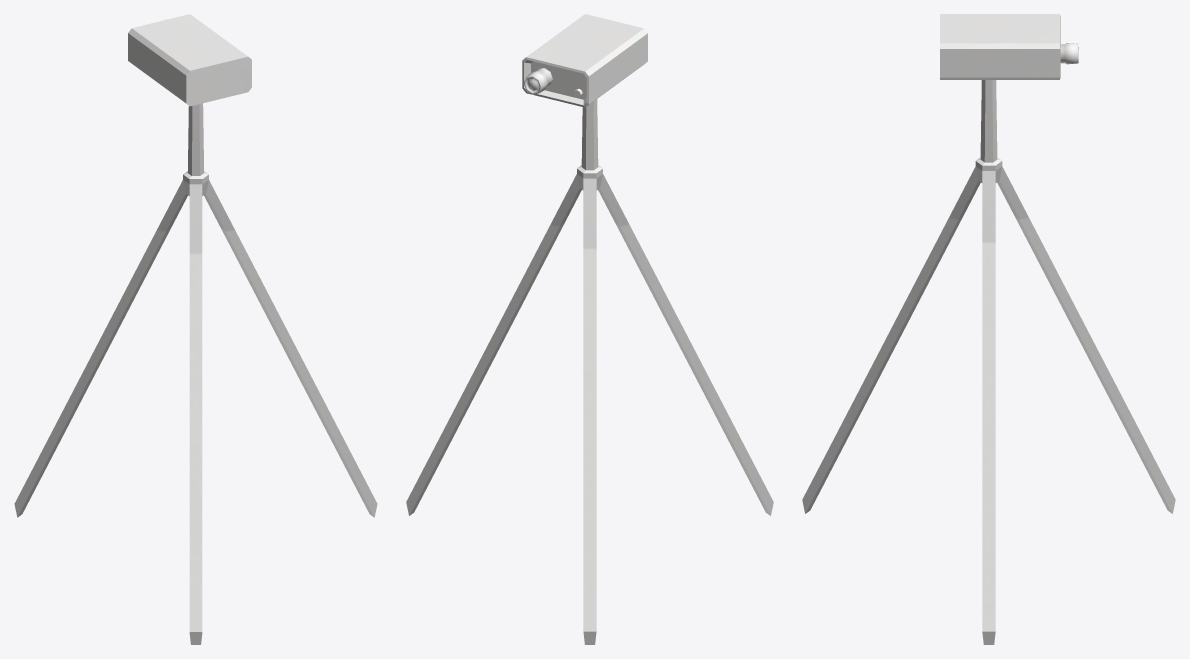
Rendered from CageFight_Camera.fbx.
3 views of the same model, side by side, from view 1: azimuth 30°, elevation 25°; view 2: azimuth 150°, elevation 25°; view 3: azimuth 270°, elevation 25° (orthographic). The views are drawn at different scales.
Visible parts, largest first — view 1: Statyw, kamera; view 2: Statyw, kamera; view 3: Statyw, kamera.
Part boxes in pixels (x1,y1,x2,y2): Statyw: (14,103,377,644); kamera: (128,14,251,106); Statyw: (406,99,773,644); kamera: (522,14,647,107); Statyw: (802,80,1175,644); kamera: (940,14,1078,79).
Size of the model in its own units: 78.24 by 141 by 90.35.
2 materials, 1 textured.
